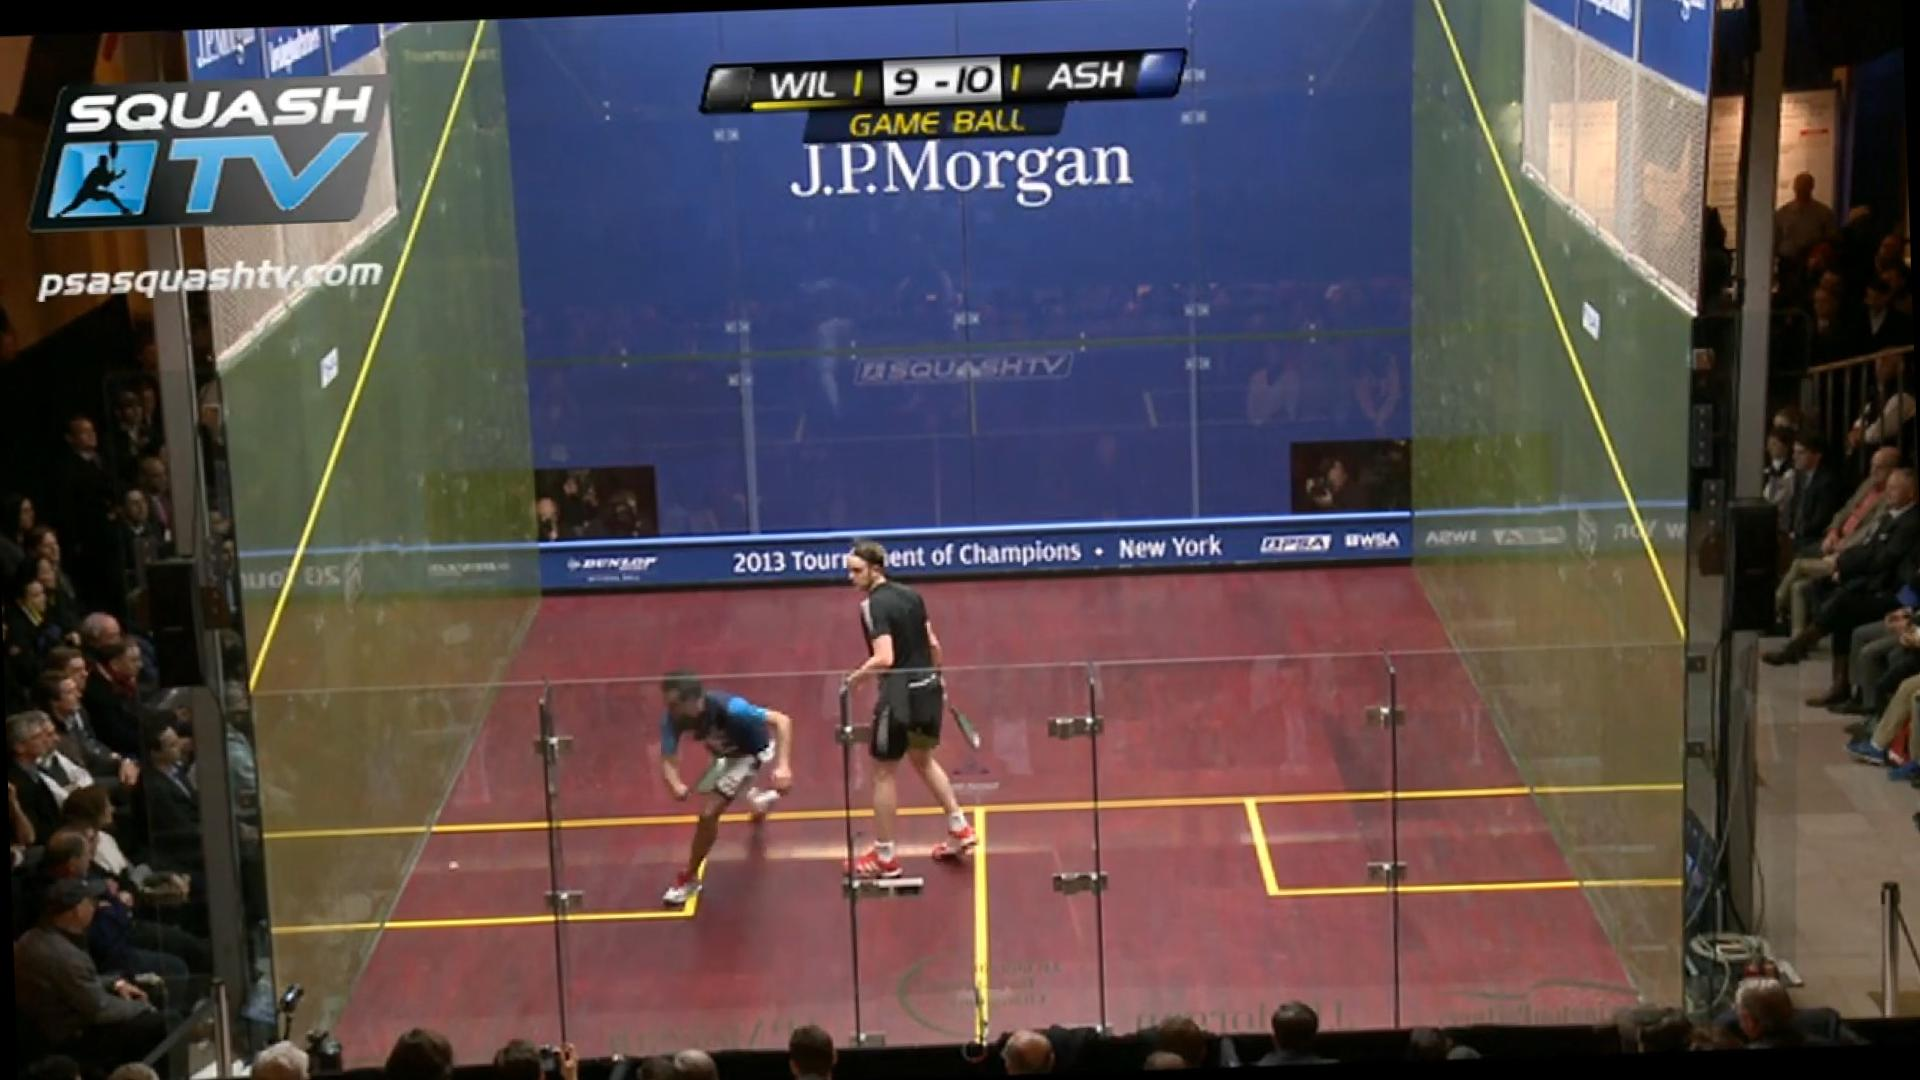Squash-Ball: (447, 848, 473, 887)
